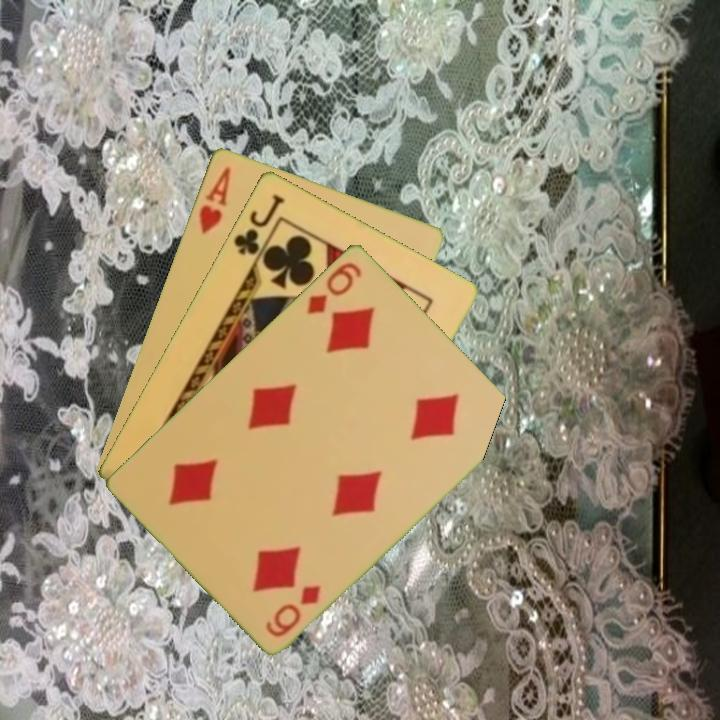6d: (262, 580, 325, 640), (303, 258, 365, 317)
Ah: (195, 162, 234, 237)
Jc: (229, 190, 287, 267)
